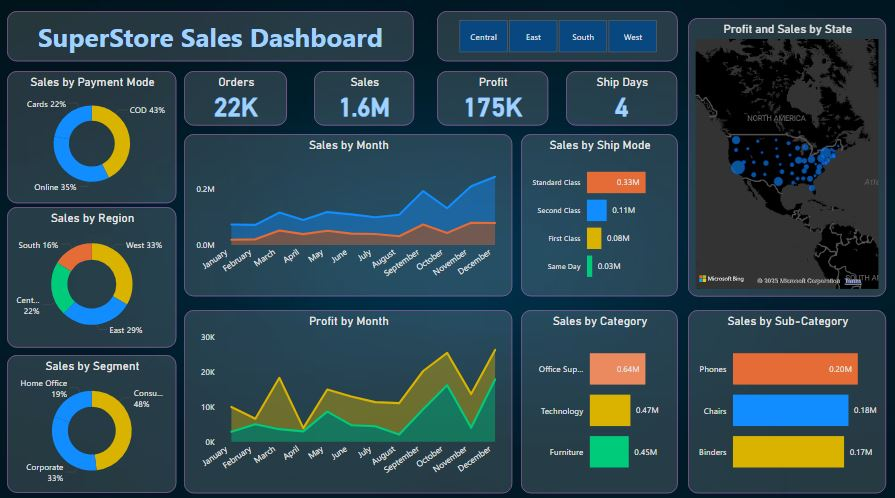

What the dashboard file says about the page in this screenshot:
{"tool":"powerbi","page":{"name":"Dashboard","canvas":[1280,720],"ordinal":0},"visuals":[{"type":"clusteredBarChart","title":"Sales by Category","fields":{"Category":["SuperStore_Sales_Dataset.Category"],"Y":["Sum(SuperStore_Sales_Dataset.Sales)"]},"box":[745.5,442.2,223.9,262.2],"z":0},{"type":"clusteredBarChart","title":"Sales by Sub-Category","fields":{"Category":["SuperStore_Sales_Dataset.Sub-Category"],"Y":["Sum(SuperStore_Sales_Dataset.Sales)"]},"box":[983.6,442.2,283.5,262.2],"z":1000},{"type":"clusteredBarChart","title":"Sales by Ship Mode","fields":{"Category":["SuperStore_Sales_Dataset.Ship Mode"],"Y":["Sum(SuperStore_Sales_Dataset.Sales)"]},"box":[745.5,191.3,223.9,232.4],"z":2000},{"type":"stackedAreaChart","title":"Profit by Month","fields":{"Series":["SuperStore_Sales_Dataset.Order Date.Variation.Date Hierarchy.Year"],"Category":["SuperStore_Sales_Dataset.Order Date.Variation.Date Hierarchy.Month","SuperStore_Sales_Dataset.Order Date.Variation.Date Hierarchy.Day"],"Y":["Sum(SuperStore_Sales_Dataset.Profit)"]},"box":[263.6,442.2,469.1,262.2],"z":3000},{"type":"stackedAreaChart","title":"Sales by Month","fields":{"Y":["Sum(SuperStore_Sales_Dataset.Sales)"],"Series":["SuperStore_Sales_Dataset.Order Date.Variation.Date Hierarchy.Year"],"Category":["SuperStore_Sales_Dataset.Order Date.Variation.Date Hierarchy.Month","SuperStore_Sales_Dataset.Order Date.Variation.Date Hierarchy.Day"]},"box":[263.6,191.3,469.1,232.4],"z":4000},{"type":"map","title":"Profit and Sales by State","fields":{"Category":["SuperStore_Sales_Dataset.State"],"Size":["Sum(SuperStore_Sales_Dataset.Sales)"]},"box":[983.6,25.5,283.5,398.3],"z":5000},{"type":"donutChart","title":"Sales by Segment","fields":{"Category":["SuperStore_Sales_Dataset.Segment"],"Y":["Sum(SuperStore_Sales_Dataset.Sales)"]},"box":[11.3,507.4,242.4,197],"z":6000},{"type":"donutChart","title":"Sales by Payment Mode","fields":{"Category":["SuperStore_Sales_Dataset.Payment Mode"],"Y":["Sum(SuperStore_Sales_Dataset.Sales)"]},"box":[11.3,102,242.4,188.5],"z":7000},{"type":"slicer","fields":{"Values":["SuperStore_Sales_Dataset.Region"]},"box":[625,15.6,344.4,72.3],"z":8000},{"type":"textbox","box":[11.3,15.6,581.1,72.3],"z":9000},{"type":"card","title":"Sales","fields":{"Values":["Sum(SuperStore_Sales_Dataset.Sales)"]},"box":[449.3,102,143.1,78],"z":10000},{"type":"card","title":"Orders","fields":{"Values":["Sum(SuperStore_Sales_Dataset.Quantity)"]},"box":[263.6,102,147.4,78],"z":11000},{"type":"card","title":"Profit","fields":{"Values":["Sum(SuperStore_Sales_Dataset.Profit)"]},"box":[625,102,158.7,78],"z":12000},{"type":"card","title":"Ship Days","fields":{"Values":["Avg(SuperStore_Sales_Dataset.AvgDelivery)"]},"box":[810.7,102,158.7,78],"z":13000},{"type":"donutChart","title":"Sales by Region","fields":{"Category":["SuperStore_Sales_Dataset.Region"],"Y":["Sum(SuperStore_Sales_Dataset.Sales)"]},"box":[11.3,296.2,242.4,201.3],"z":14000}]}

Visuals, with their boxes in screenshot pixels (x1, y1, x2, y2), scaled from the page's 1280x720 canvas onto the 895x498 screenshot:
"Sales by Category" clusteredBarChart: 521, 306, 678, 487
"Sales by Sub-Category" clusteredBarChart: 688, 306, 886, 487
"Sales by Ship Mode" clusteredBarChart: 521, 132, 678, 293
"Profit by Month" stackedAreaChart: 184, 306, 512, 487
"Sales by Month" stackedAreaChart: 184, 132, 512, 293
"Profit and Sales by State" map: 688, 18, 886, 293
"Sales by Segment" donutChart: 8, 351, 177, 487
"Sales by Payment Mode" donutChart: 8, 71, 177, 201
slicer - SuperStore_Sales_Dataset.Region: 437, 11, 678, 61
textbox: 8, 11, 414, 61
"Sales" card: 314, 71, 414, 124
"Orders" card: 184, 71, 287, 124
"Profit" card: 437, 71, 548, 124
"Ship Days" card: 567, 71, 678, 124
"Sales by Region" donutChart: 8, 205, 177, 344
